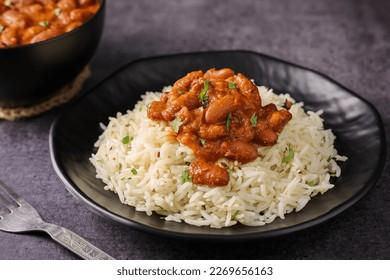rajma: (162, 69, 290, 164)
rice: (144, 167, 341, 216)
